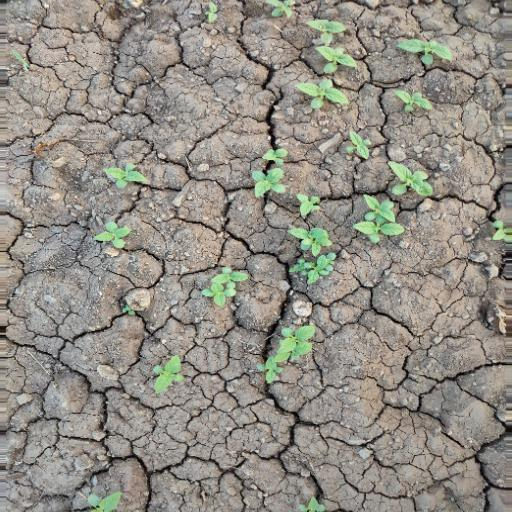crop: (90, 156, 151, 254), (293, 16, 353, 114), (393, 32, 454, 122), (260, 314, 320, 391), (351, 194, 411, 251), (245, 144, 293, 204), (197, 262, 245, 312), (384, 156, 434, 203), (146, 353, 188, 396)
